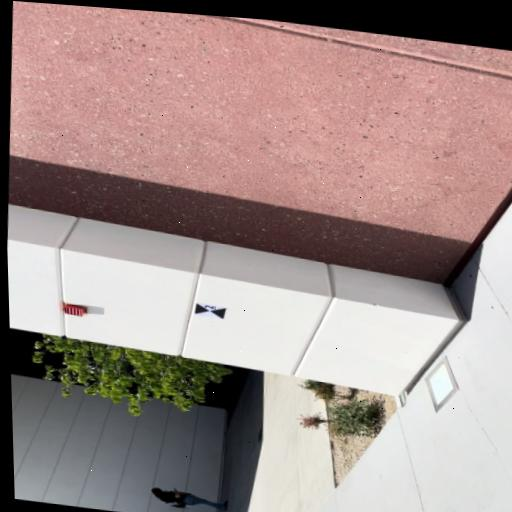target2: (194, 302, 226, 319)
